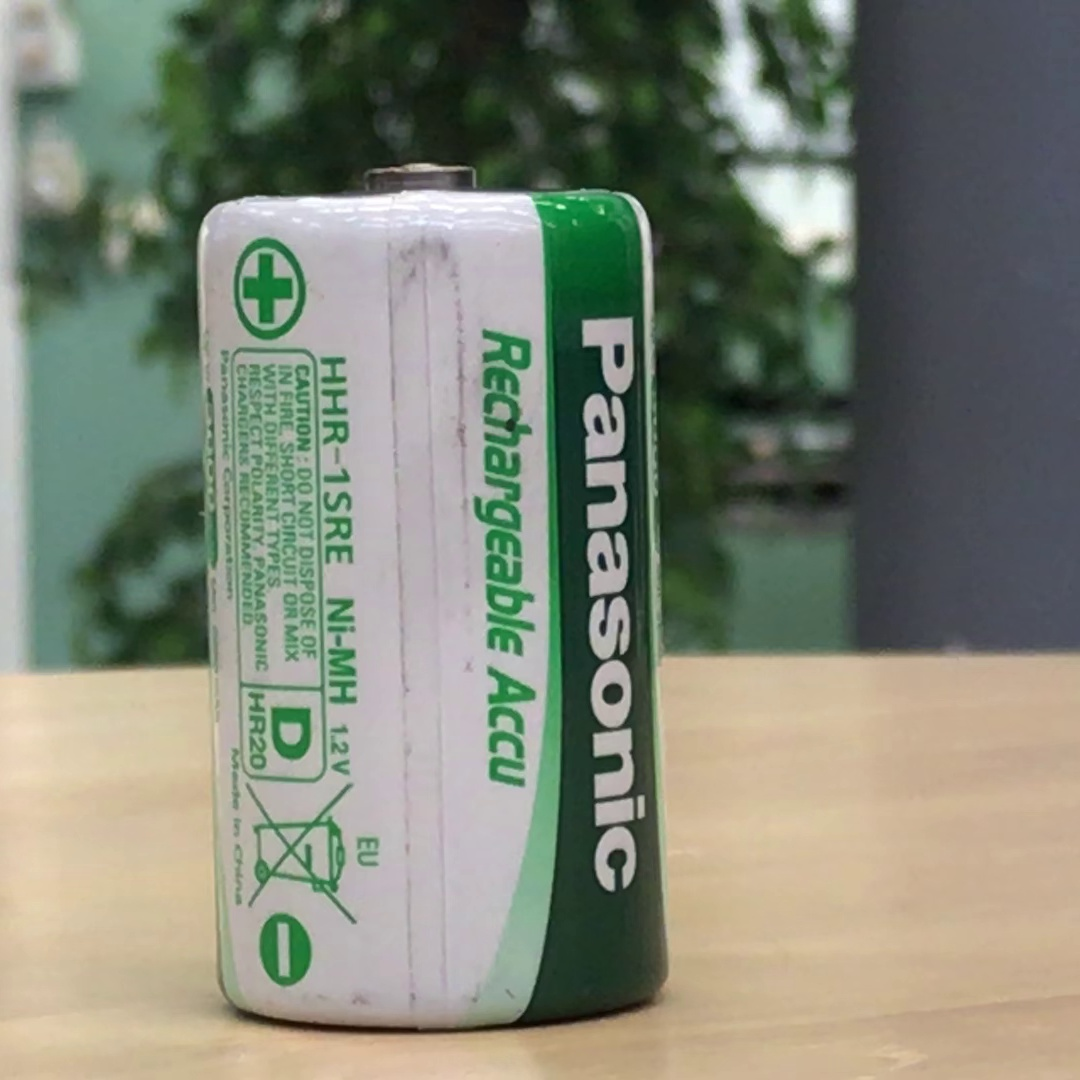keyword: (310, 567, 366, 712)
